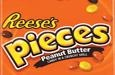grozi_31: (0, 0, 114, 74)
